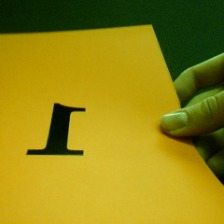orange1: (22, 98, 93, 161)
